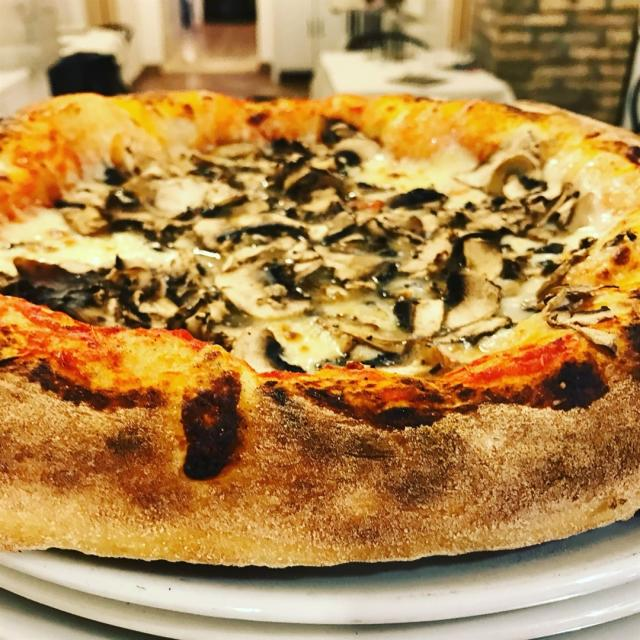mushrooms: (481, 174, 579, 236), (211, 264, 316, 319), (538, 250, 630, 312), (445, 238, 502, 330), (105, 268, 207, 318), (232, 318, 312, 378), (192, 220, 332, 249), (265, 140, 336, 188), (365, 209, 445, 245), (432, 312, 512, 347), (349, 344, 429, 375), (314, 134, 385, 168), (113, 204, 170, 233), (284, 238, 322, 278), (295, 188, 342, 220), (201, 199, 269, 217), (412, 299, 443, 337)
pizza: (0, 91, 640, 567)
